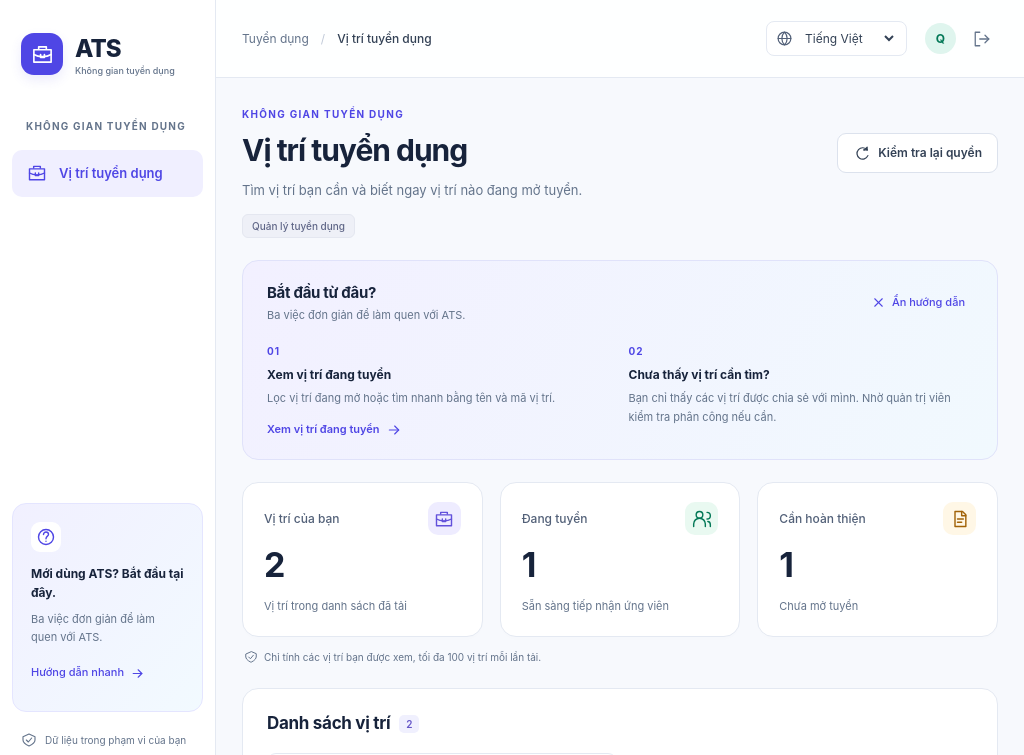
Scenario: quick start opens actual open-job filtering, without creating any records
Click the button "Xem vị trí đang tuyển": [334, 430] box [267, 421, 402, 438]
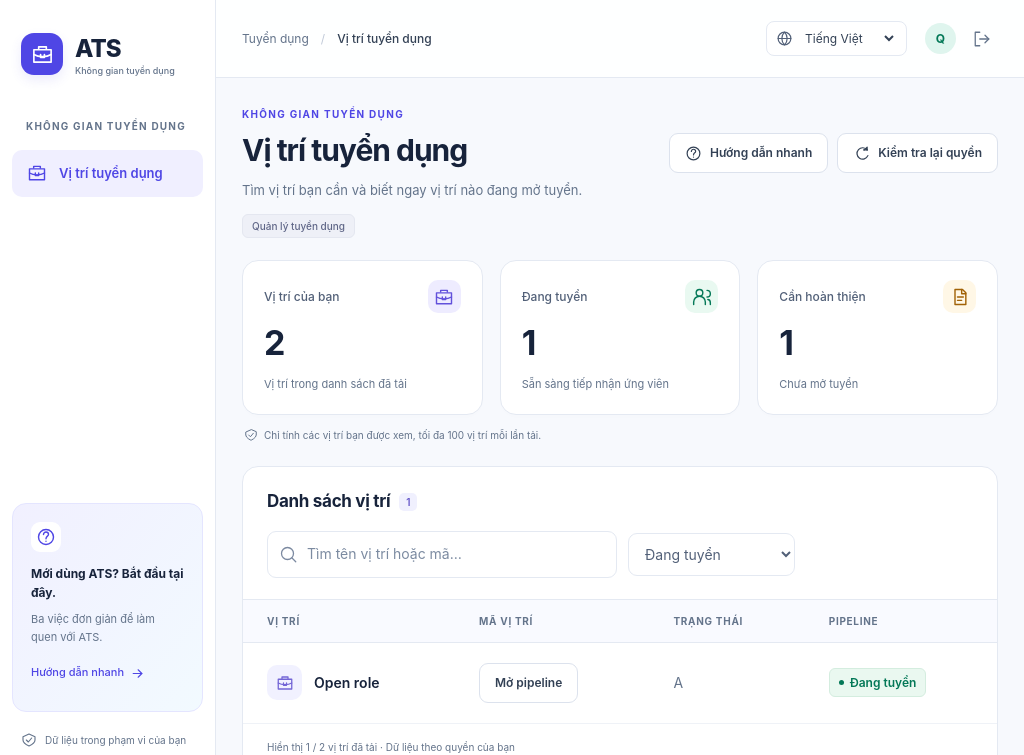
Expected: the text "Open role" is shown, [314, 672, 380, 694]
Expected: the dropdown named "Trạng thái vị trí" shows "Đang tuyển", [628, 533, 795, 576]
